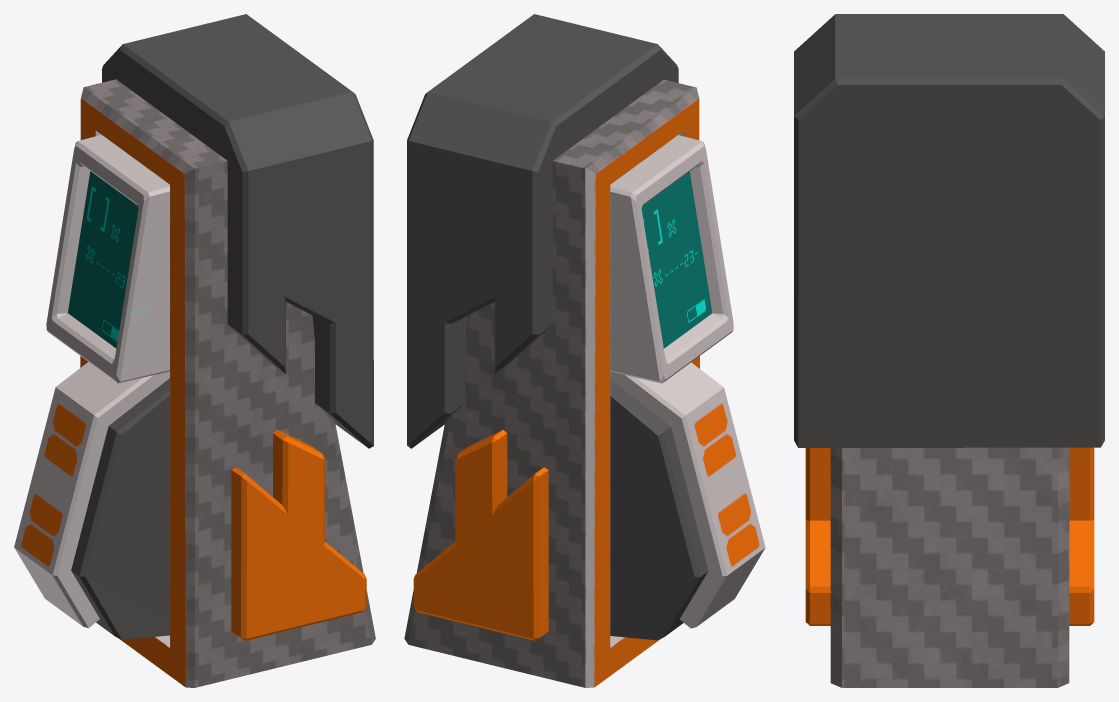
File: SM_Props_03.fbx
3 views of the same model, side by side, from view 1: azimuth 30°, elevation 25°; view 2: azimuth 150°, elevation 25°; view 3: azimuth 270°, elevation 25° (orthographic). The views are drawn at different scales.
Parts seen in each view (by area): view 1: SM_Props_03; view 2: SM_Props_03; view 3: SM_Props_03.
Boxes of the visible parts, bbox=[...] form: SM_Props_03: bbox=[14, 14, 375, 687]; SM_Props_03: bbox=[404, 14, 765, 687]; SM_Props_03: bbox=[794, 14, 1104, 687].
Bounding box in the file's own units: 81.39 × 69.99 × 148.
1 material, 1 textured.
